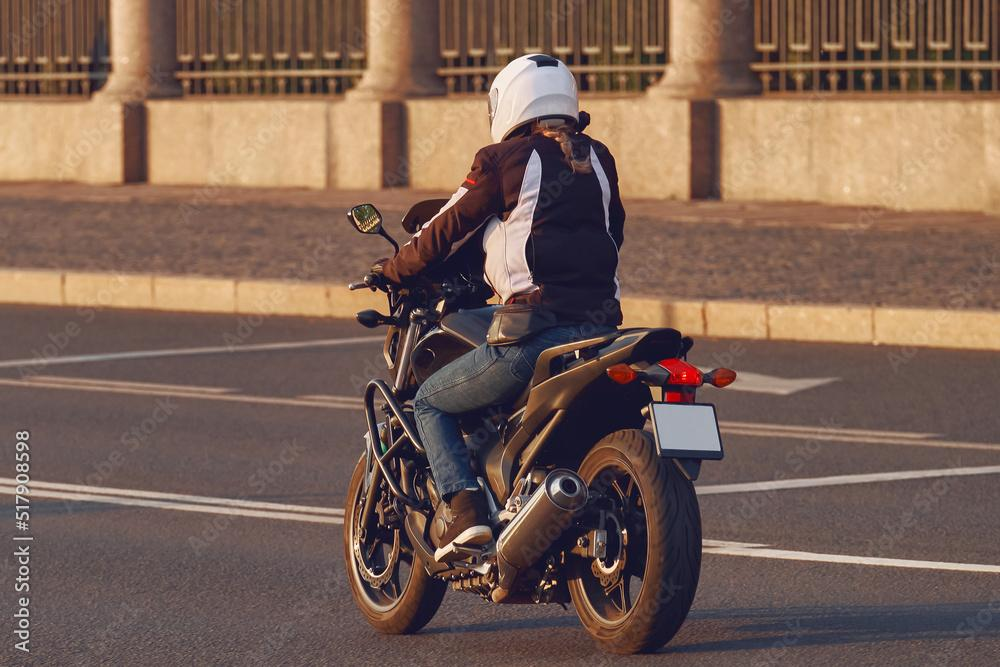helmet: (486, 53, 591, 155)
